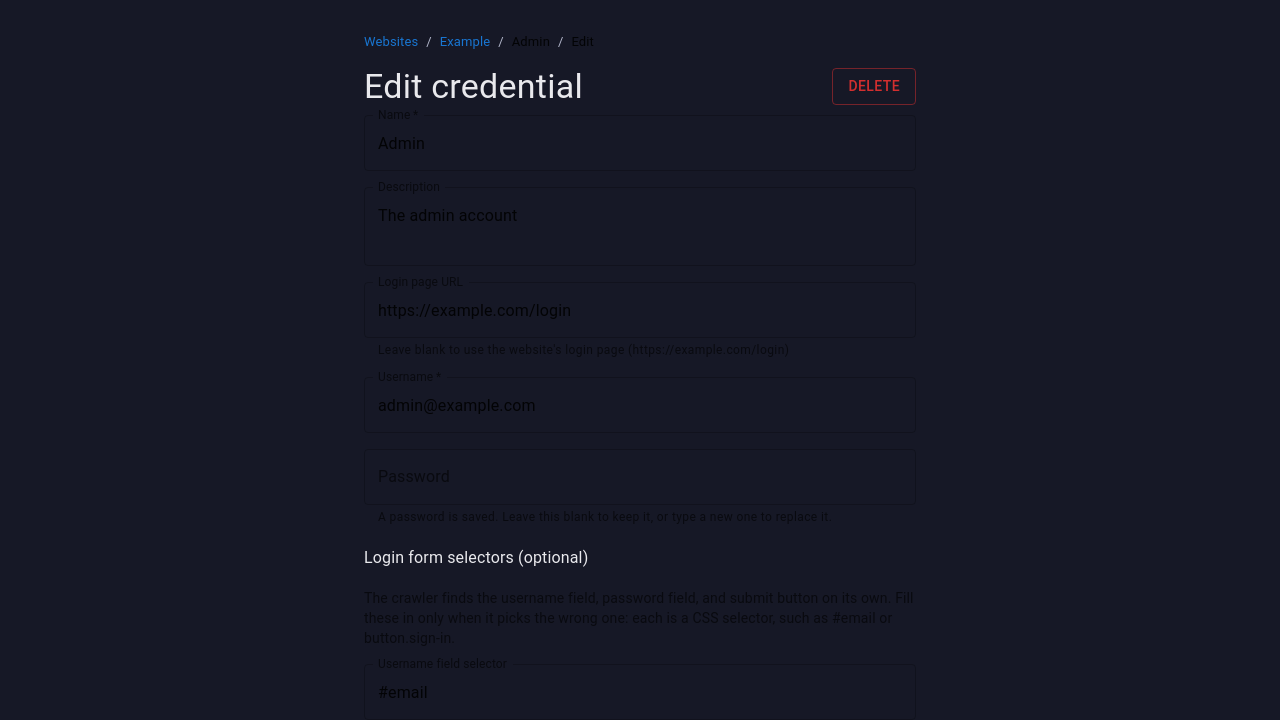
Test case: CredentialEditPage › closes the delete dialog on Cancel without deleting
Click the button "Delete" at (874, 86), box x1=832 y1=68 x2=916 y2=105
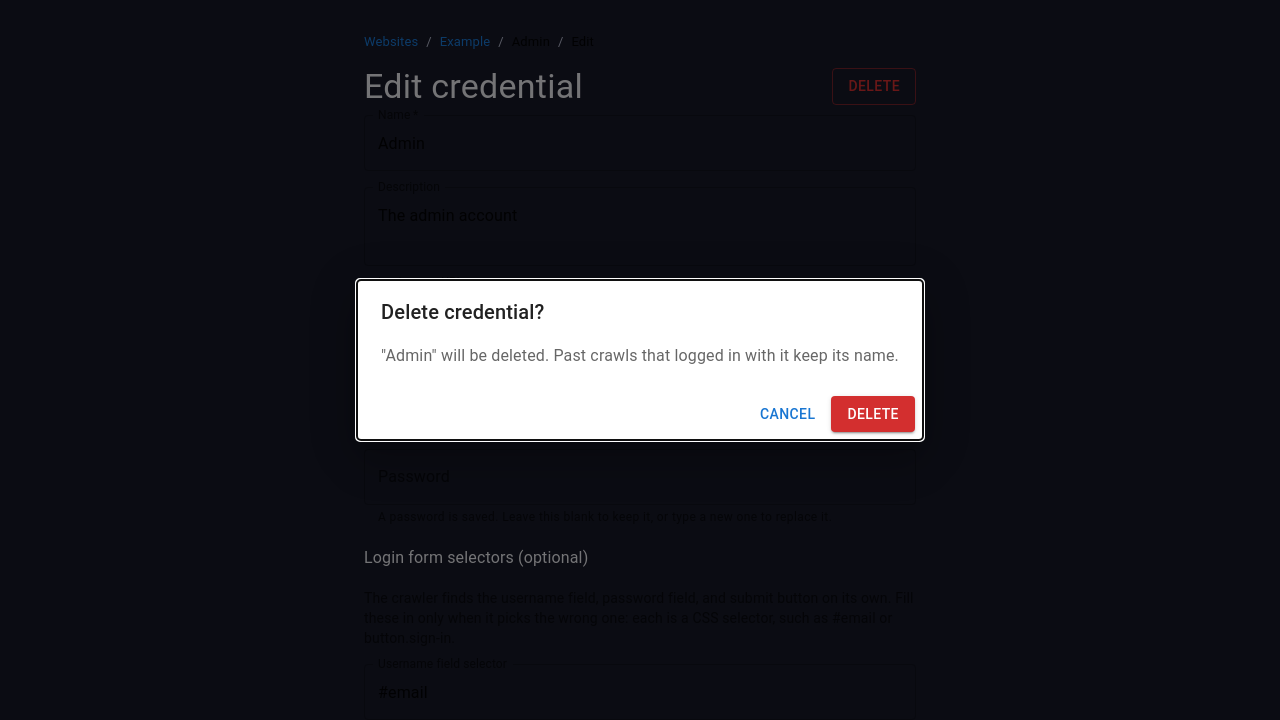
Click the button "Cancel" at (788, 414), box x1=752 y1=396 x2=823 y2=432
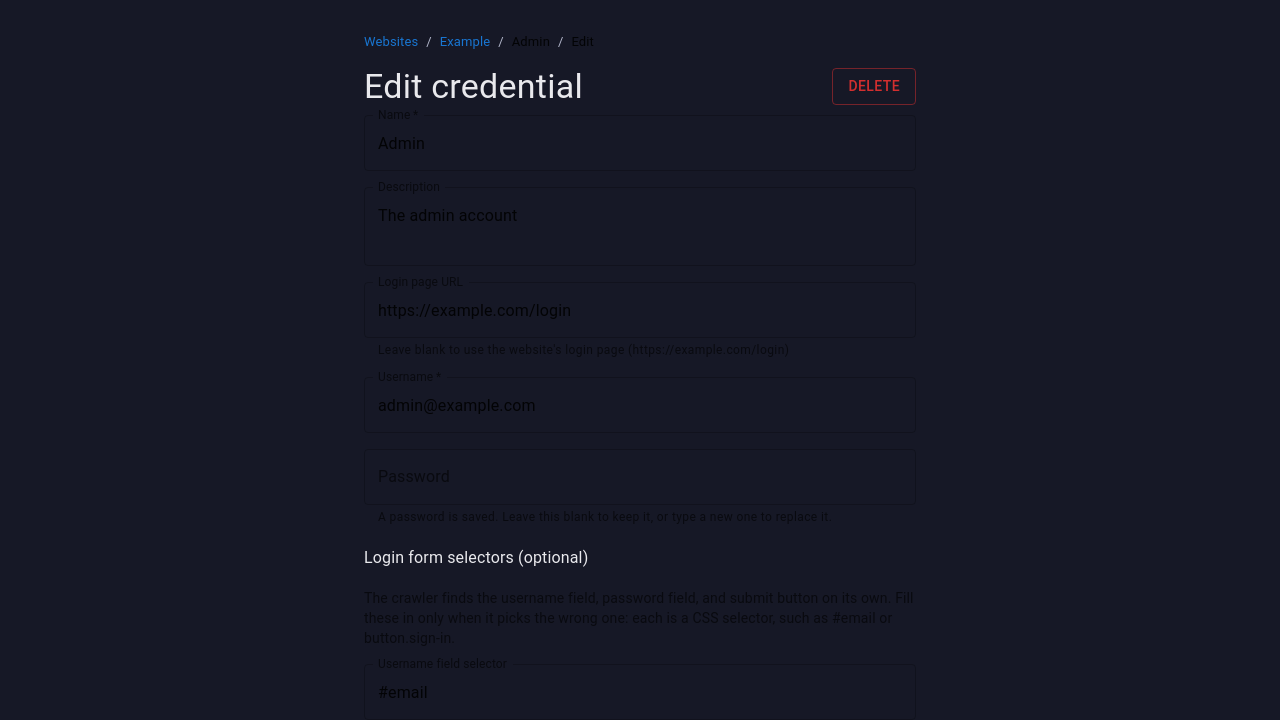
expect the dialog is gone: met
